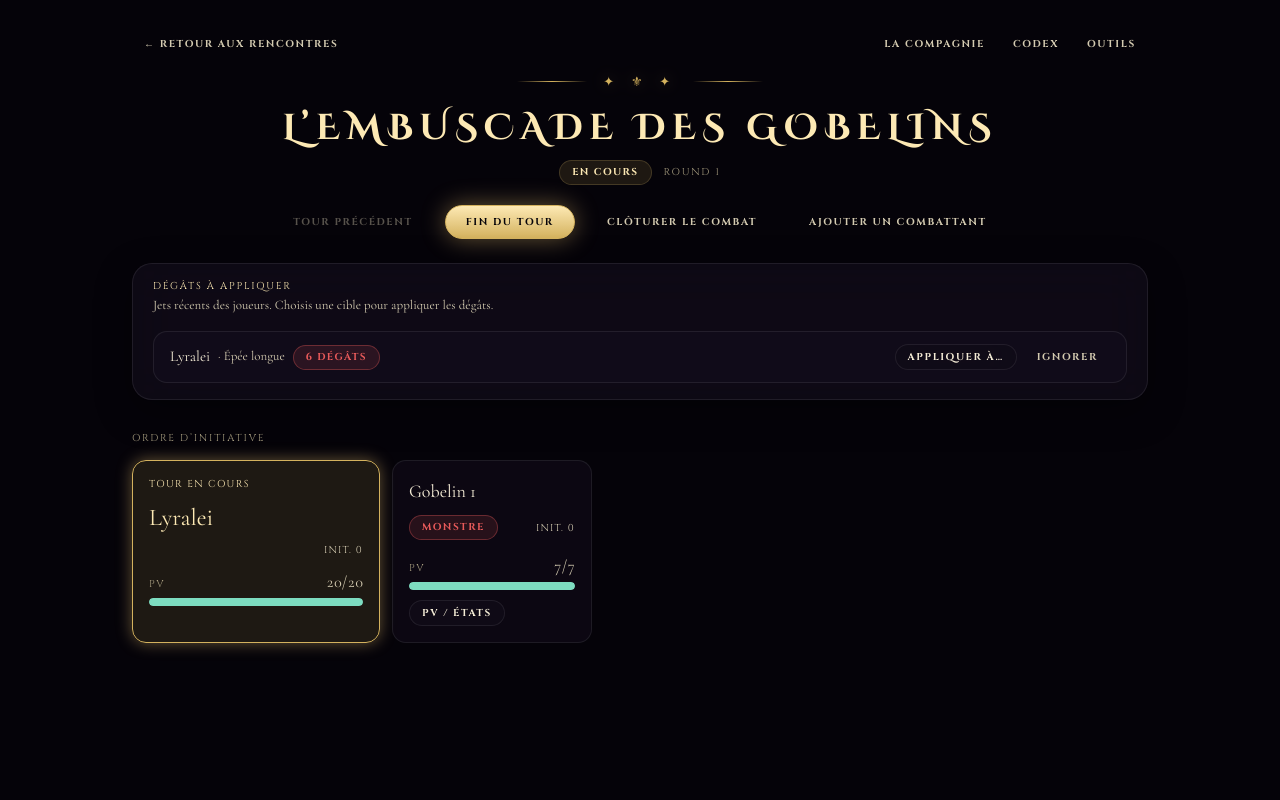
<EncounterScreen> — hand-off dégâts (step 7b) › « Appliquer à… » → cible Gobelin → applyParticipantHpDelta(−total) + logMonsterHpChange + retrait
Click the button "Appliquer à…" at (956, 357), box left=895, top=344, right=1017, bottom=370
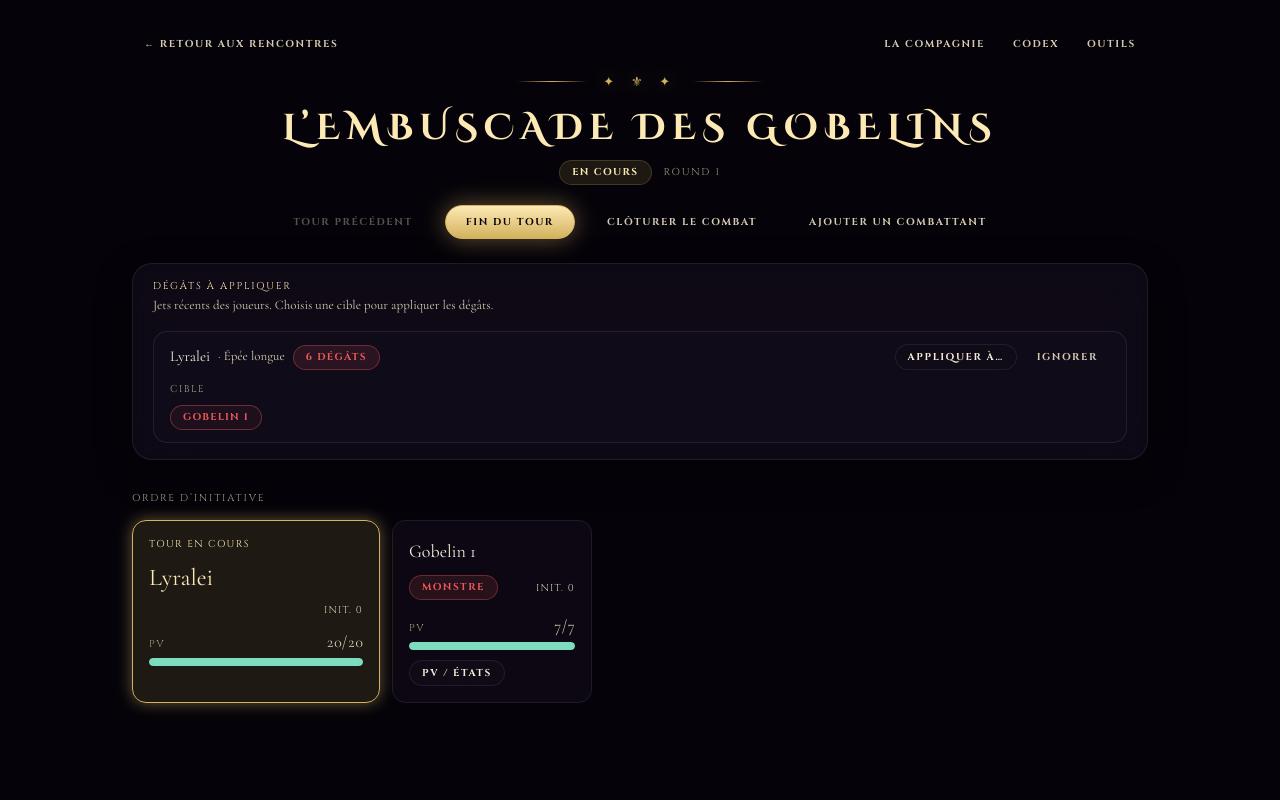
Click the button "Gobelin 1" at (216, 418), box left=170, top=405, right=262, bottom=430
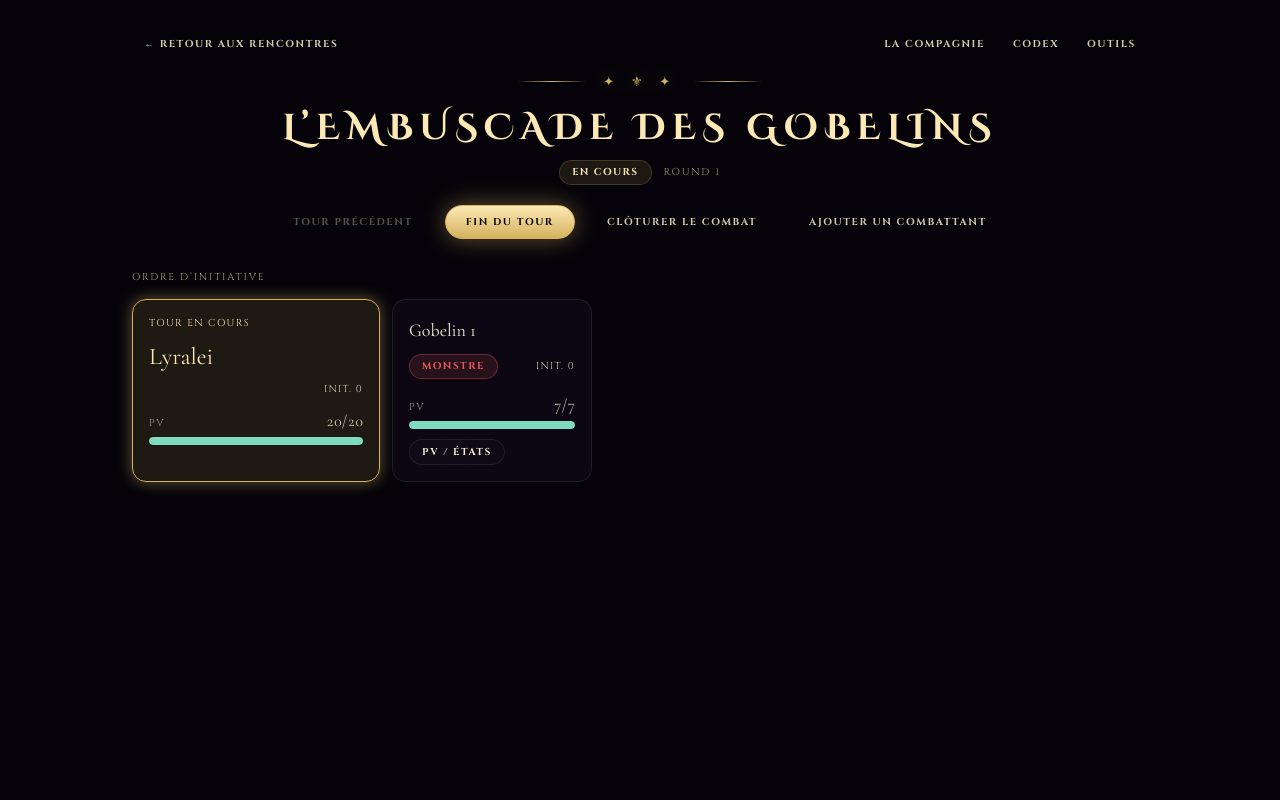
expect the heading "Dégâts à appliquer" is gone: met
